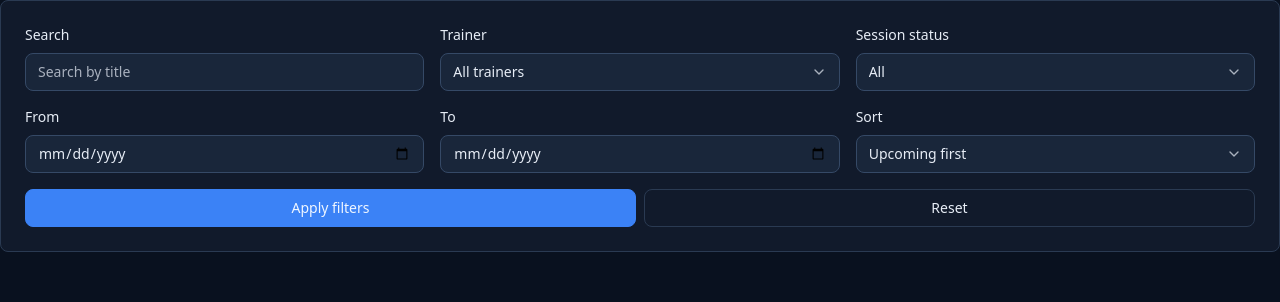
SessionsFilters › toggles multiple statuses independently
What coordinates should you click on to do the following:
click the button with aria-label "Session status: All"
I would click on:
 (877, 72)
Its box is [856, 53, 1255, 91].
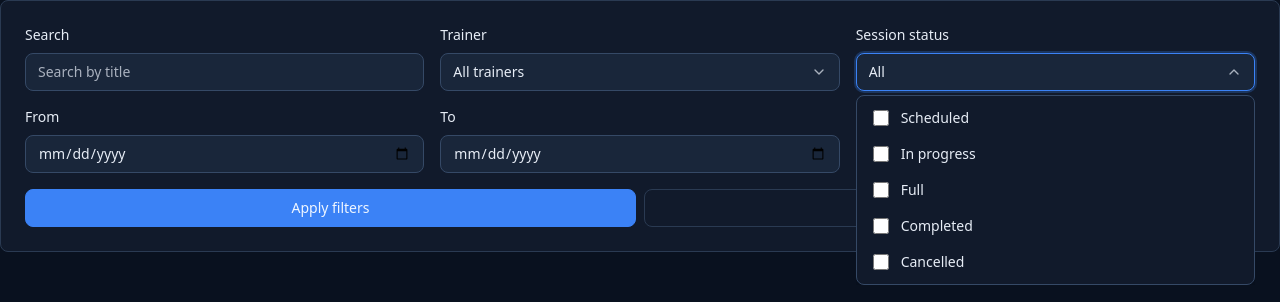
What coordinates should you click on to do the following:
click the checkbox named "Session status: Scheduled"
I would click on:
 (881, 118)
Its box is [873, 110, 889, 126].
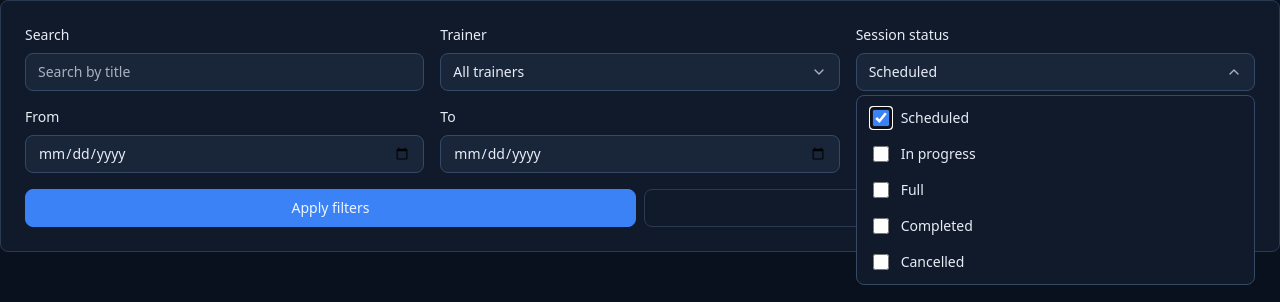
What coordinates should you click on to do the following:
click the checkbox named "Session status: Full"
I would click on:
 (881, 190)
Its box is [873, 182, 889, 198].
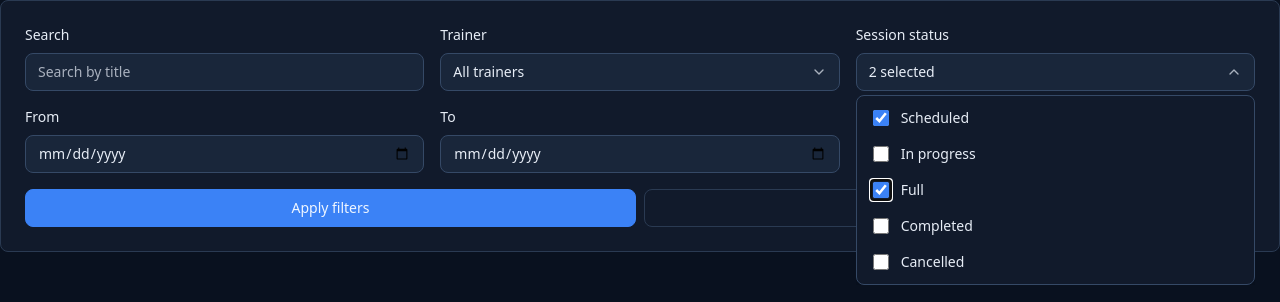
Expected: the button with aria-label "Session status: 2 selected" is shown, [856, 53, 1255, 91]
What coordinates should you click on to do the following:
click the checkbox named "Session status: Scheduled"
I would click on:
 (881, 118)
Its box is [873, 110, 889, 126].
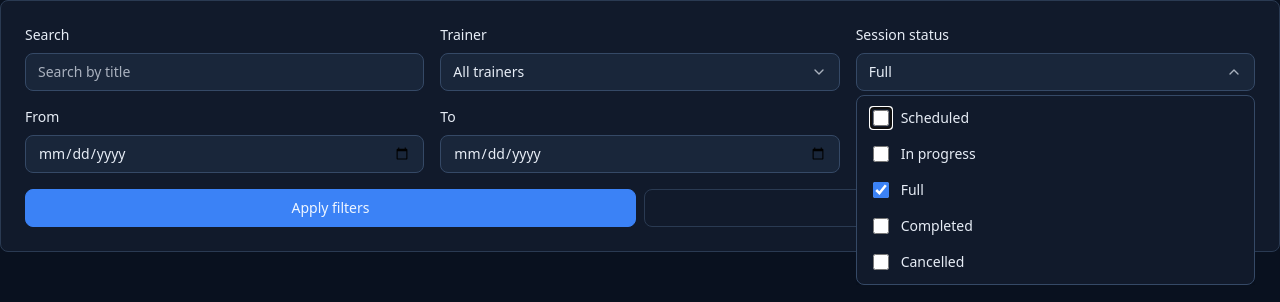
Expected: the button with aria-label "Session status: Full" is shown, [856, 53, 1255, 91]
